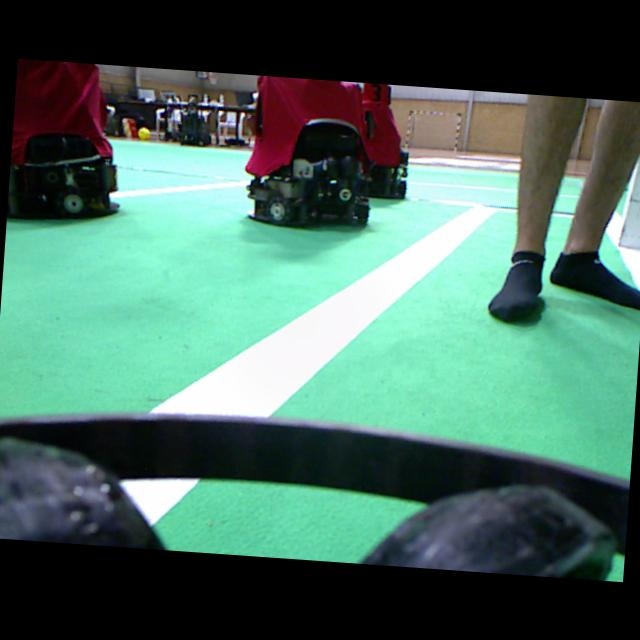ball: (137, 126, 149, 139)
